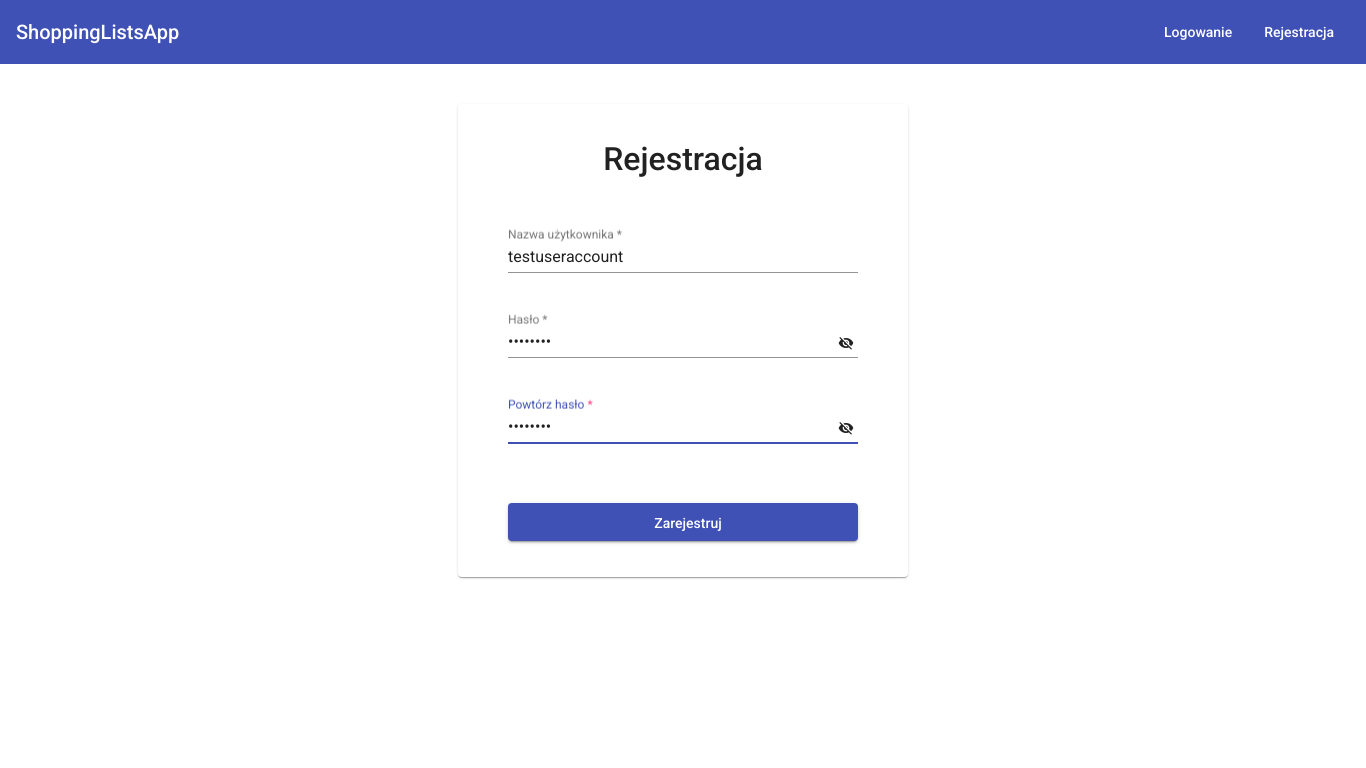
Test: Register › after click register should appear sweetalert
Click the button with class "register-btn": point(683, 522) [508,503,858,540]
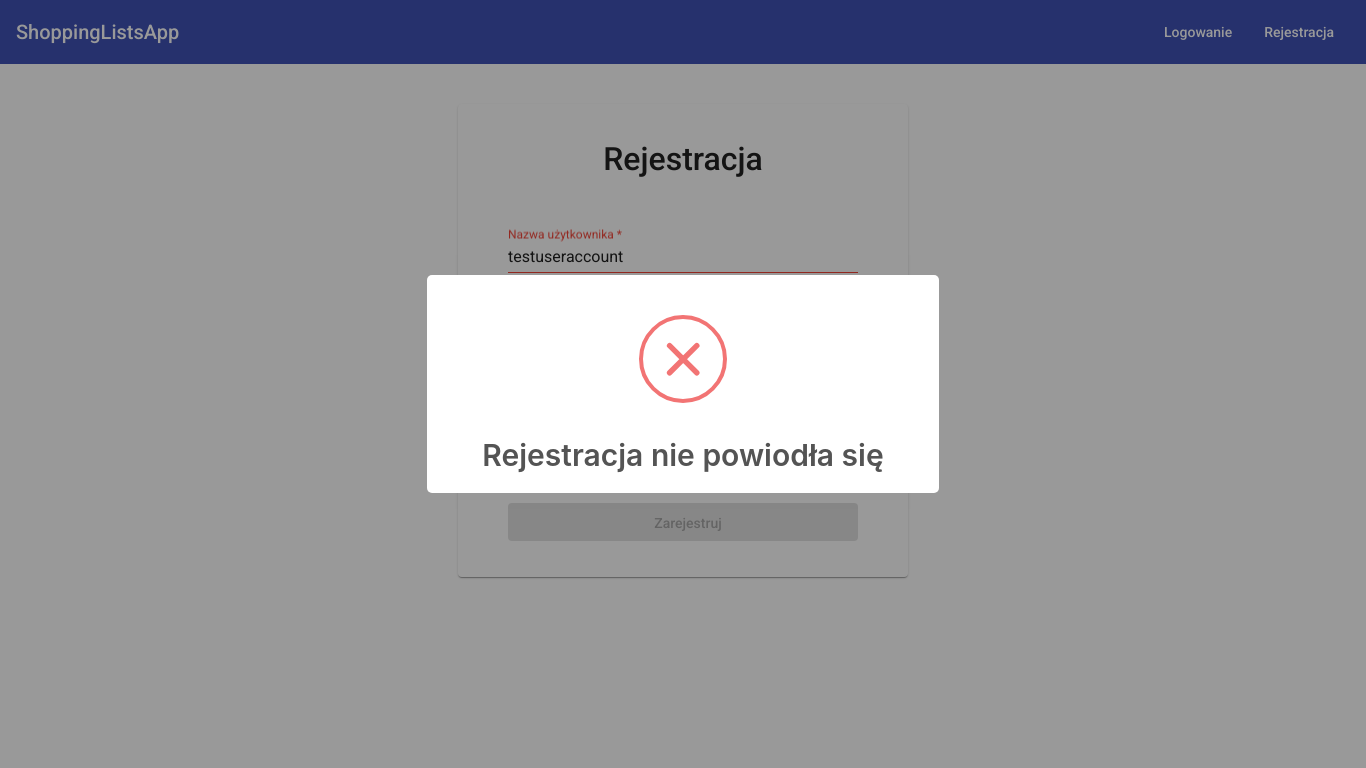
Expected: the element with class "swal2-container" is shown
